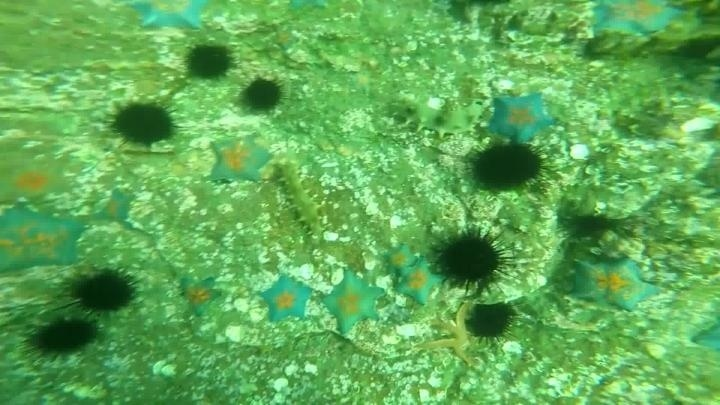echinus: (433, 226, 511, 294), (468, 140, 547, 193), (108, 98, 179, 150), (68, 267, 139, 316), (25, 315, 100, 360), (464, 300, 517, 343), (183, 42, 236, 83), (558, 208, 614, 242), (239, 75, 285, 115), (673, 32, 719, 63), (444, 1, 477, 27)
holothurian: (385, 91, 482, 142), (272, 157, 328, 238)
scallop: (644, 342, 668, 362)
starfish: (1, 205, 87, 274), (567, 253, 661, 314), (320, 269, 385, 336), (486, 90, 556, 145), (589, 1, 687, 39), (1, 156, 75, 206), (206, 134, 273, 186), (123, 1, 211, 34), (258, 274, 313, 324), (394, 257, 444, 306), (177, 271, 225, 319), (93, 187, 137, 226), (381, 241, 420, 278), (689, 322, 720, 354), (284, 1, 330, 19), (346, 70, 376, 96), (272, 28, 298, 50)
